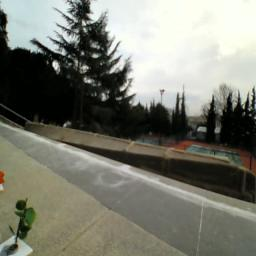herb: (10, 198, 38, 243)
